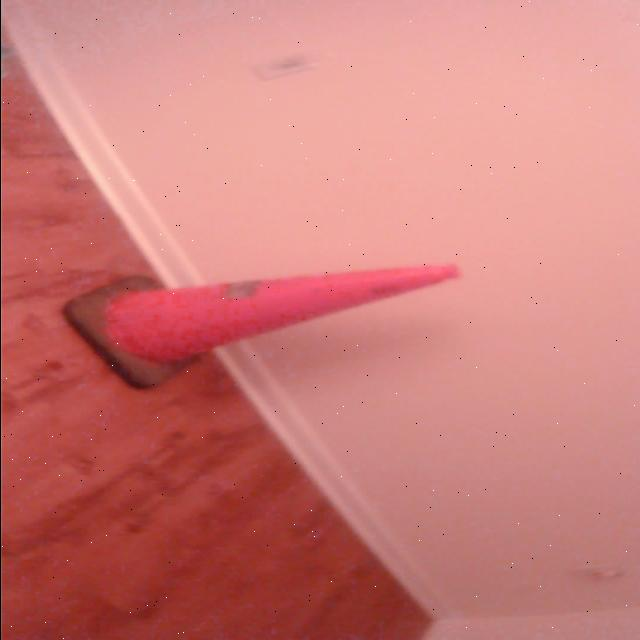traffic cone: (60, 261, 468, 395)
